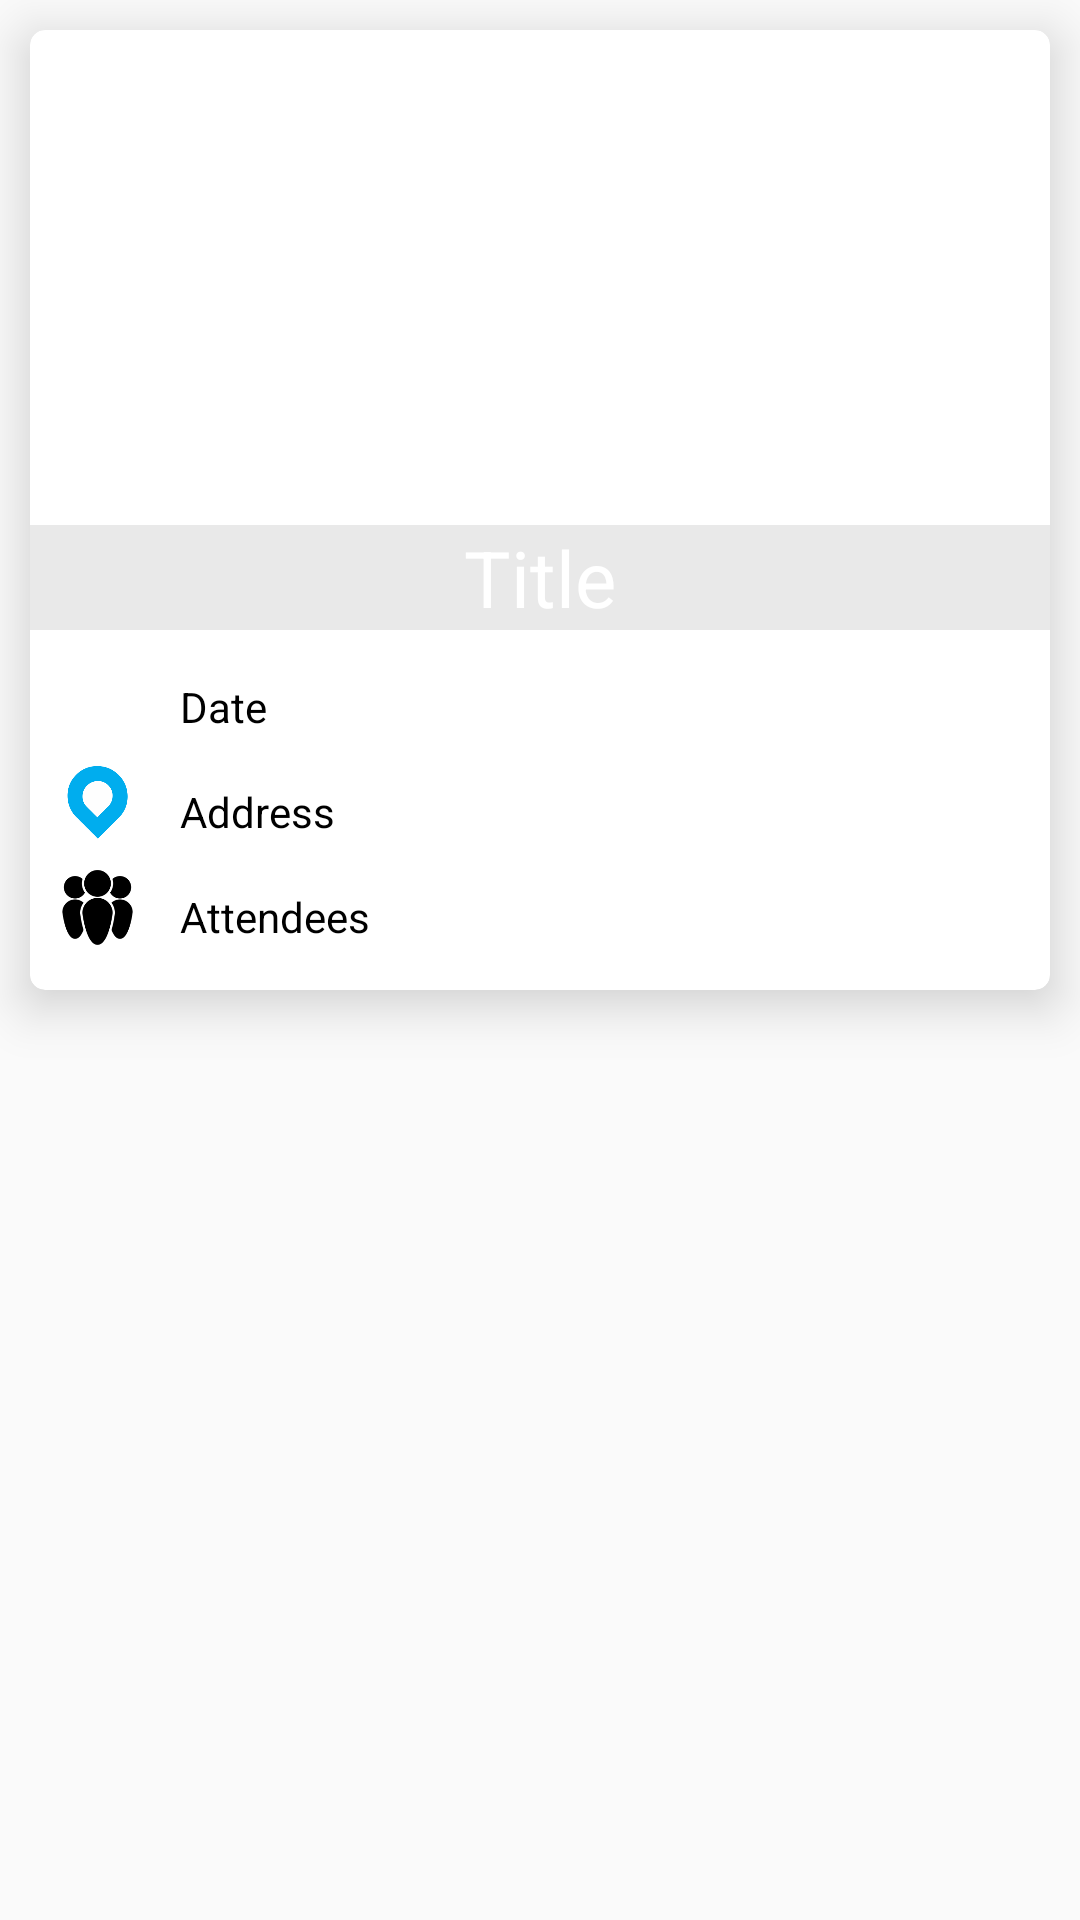

Screen size 1080px x 1920px. Icon name, then its box in pixels as (x1, y1, x2, y2):
meet app pointer: (67, 766, 128, 839)
